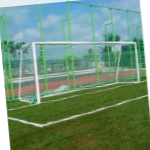goals: (18, 40, 141, 105)
